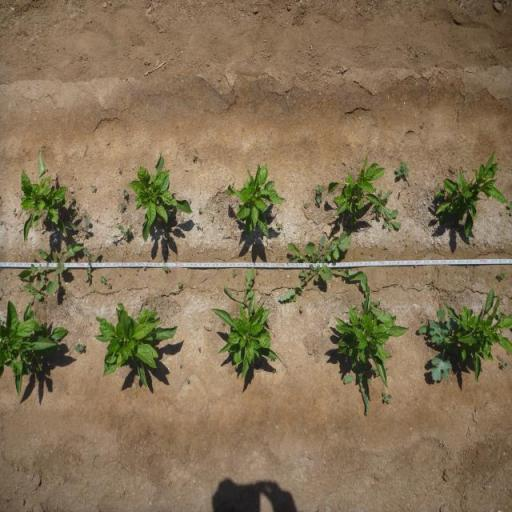plant: (92, 302, 184, 392), (330, 294, 411, 390), (0, 300, 72, 398), (432, 151, 509, 239), (446, 285, 512, 384), (127, 149, 192, 243), (212, 298, 281, 379), (226, 162, 286, 242), (326, 152, 386, 226), (20, 150, 67, 243)
weed: (277, 228, 362, 305), (16, 240, 85, 299), (417, 308, 458, 384), (343, 363, 380, 418), (222, 267, 256, 305), (85, 247, 101, 285), (371, 188, 392, 216), (381, 208, 403, 231), (66, 218, 93, 236), (111, 224, 132, 242), (24, 282, 44, 300), (394, 160, 410, 178), (314, 183, 324, 207), (73, 342, 86, 354), (382, 392, 393, 404), (297, 268, 306, 280), (70, 204, 78, 217), (496, 272, 506, 280), (501, 360, 509, 370), (275, 219, 283, 229), (99, 274, 107, 284), (39, 271, 46, 281), (120, 202, 126, 213), (122, 188, 128, 198), (432, 280, 437, 290), (195, 222, 202, 229), (90, 185, 97, 192), (254, 269, 260, 277), (210, 214, 216, 222), (162, 266, 170, 272), (302, 203, 308, 210), (107, 283, 113, 290), (192, 154, 198, 161), (232, 270, 237, 277), (178, 282, 183, 288), (152, 306, 159, 309), (434, 266, 438, 271), (198, 348, 202, 353), (187, 379, 191, 384), (118, 167, 122, 172), (426, 271, 430, 274), (198, 208, 202, 211), (190, 198, 192, 203), (180, 364, 182, 368)
